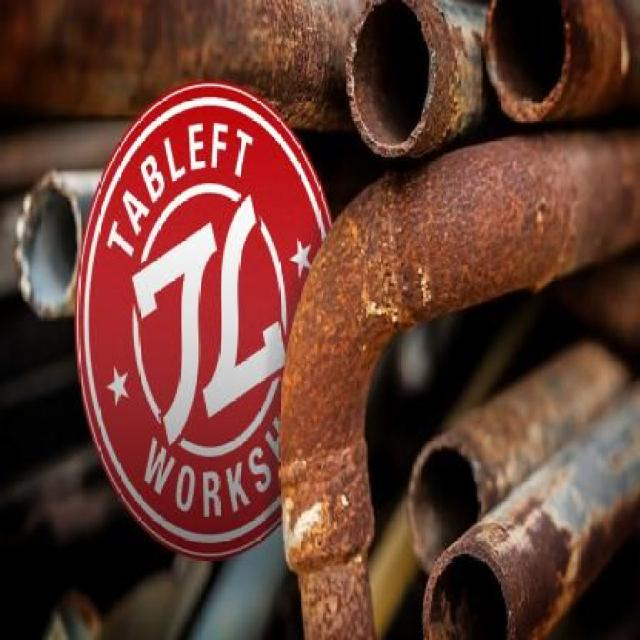corrosion: (276, 0, 639, 640)
